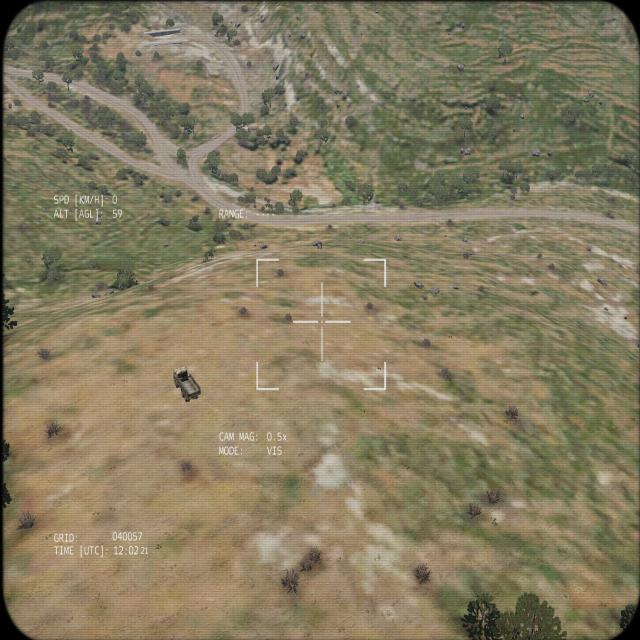truck: (172, 363, 201, 403)
